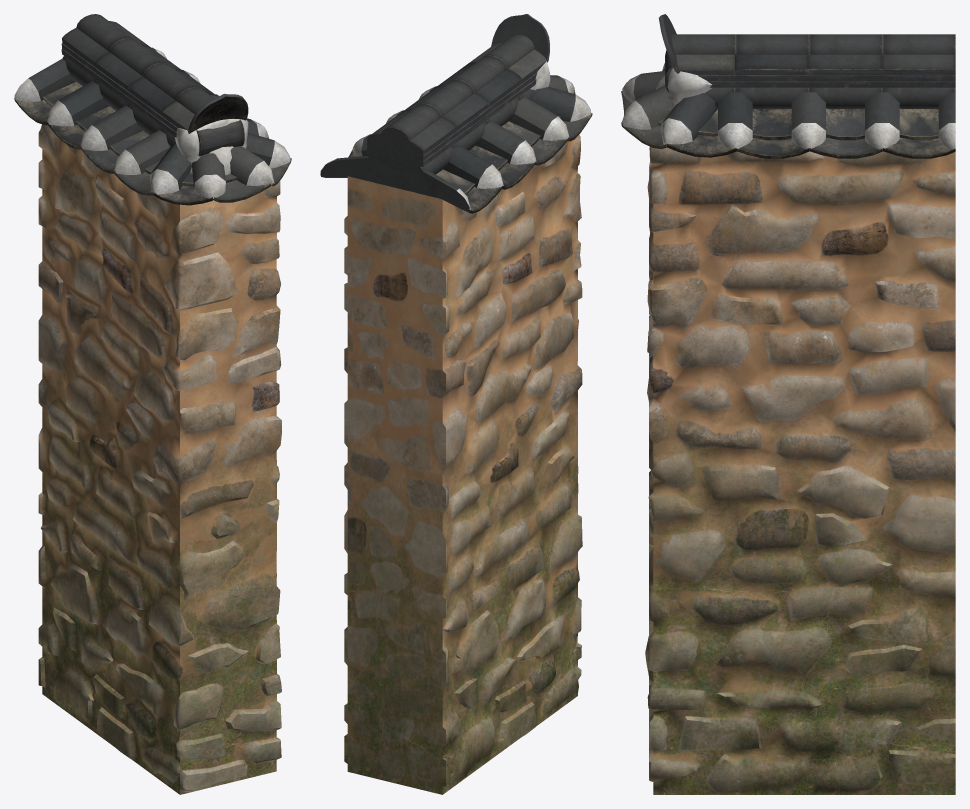
File: SM_Stonewall03a.fbx
The picture shows the model from 3 angles, left to right: view 1: azimuth 30°, elevation 25°; view 2: azimuth 150°, elevation 25°; view 3: azimuth 270°, elevation 25°; orthographic projection. The views are drawn at different scales.
Parts seen in each view (by area): view 1: SM_Stonewall03a; view 2: SM_Stonewall03a; view 3: SM_Stonewall03a.
Part boxes in pixels (x1=…): SM_Stonewall03a: x1=14, y1=14, x2=291, y2=794; SM_Stonewall03a: x1=320, y1=14, x2=592, y2=794; SM_Stonewall03a: x1=621, y1=14, x2=955, y2=794.
Size of the model in its own units: 79.44 by 137 by 339.
2 materials, 2 textured.
